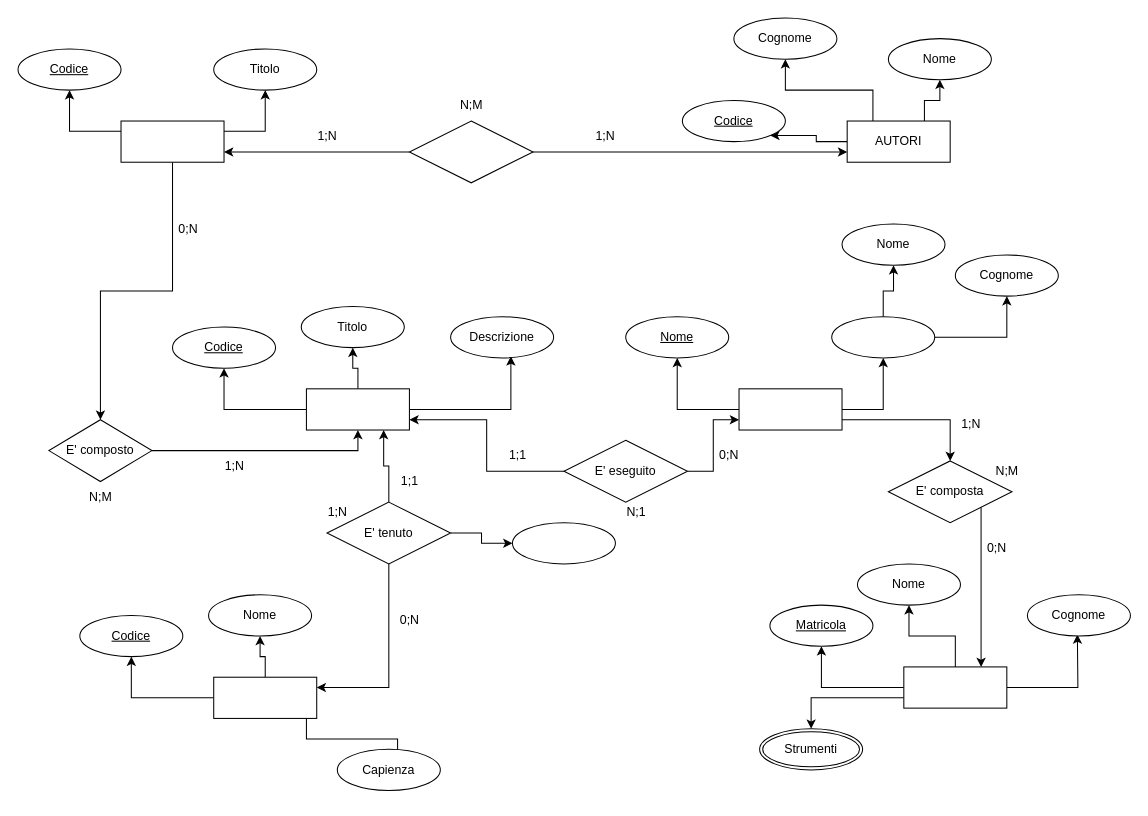
Some shapes in this 1148 by 816 pixel diagram are drawn without their labels. The centre of each missing label's shape, as x and y in pixels:
CONCERTI: (357,409)
Data: (563,543)
Direttore: (883,337)
E' scritto: (470,151)
ORCHESTRA: (790,409)
ORCHESTRALI: (955,687)
PEZZI: (172,141)
SALE: (265,697)
